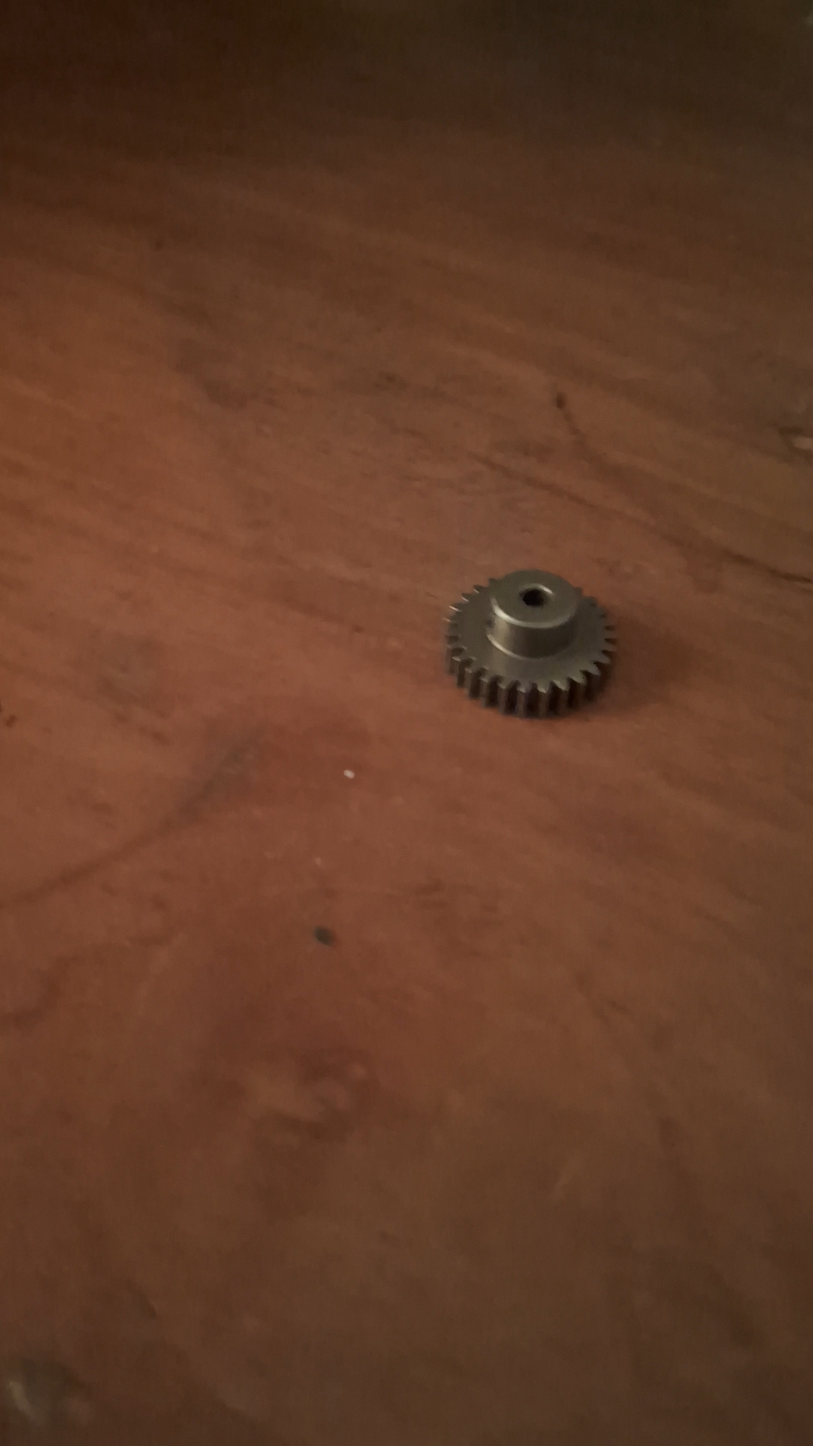spur gear: (446, 570, 615, 716)
